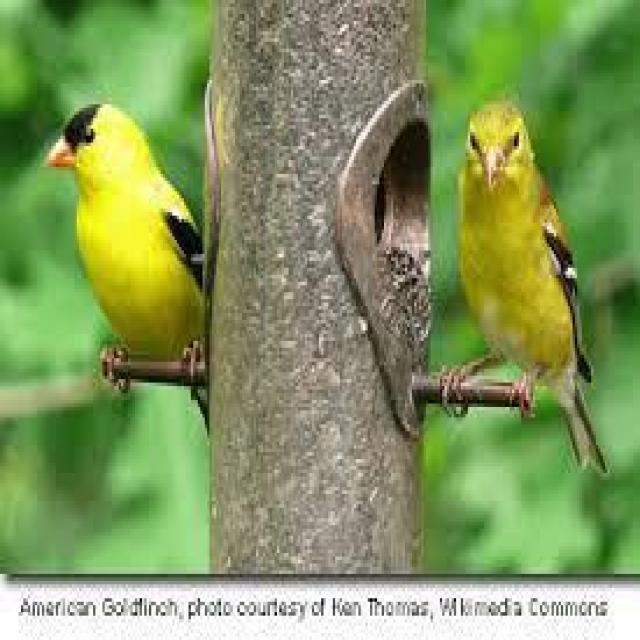other: (443, 72, 602, 416), (46, 87, 208, 364)
